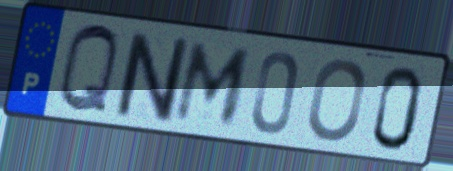0: (370, 63, 428, 153), (249, 48, 301, 136)
M: (170, 39, 256, 128)
N: (112, 28, 191, 126)
O: (305, 56, 368, 144)
Q: (55, 21, 122, 118)
